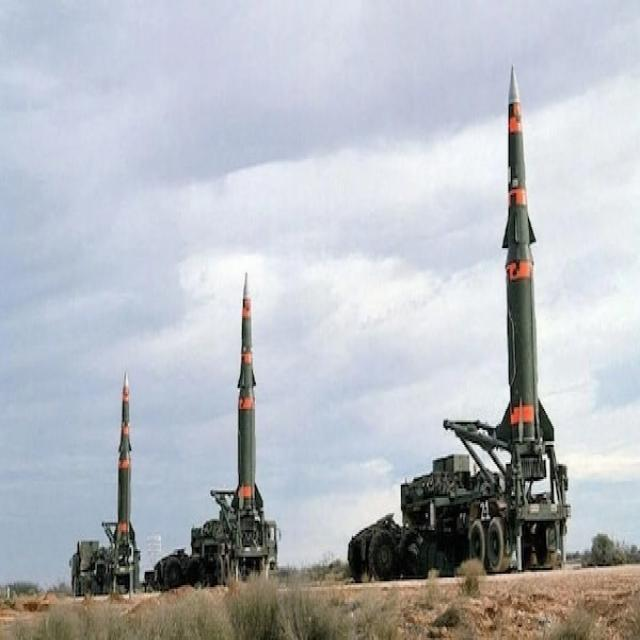missile: (502, 60, 541, 439), (233, 270, 261, 501), (118, 375, 138, 530)
